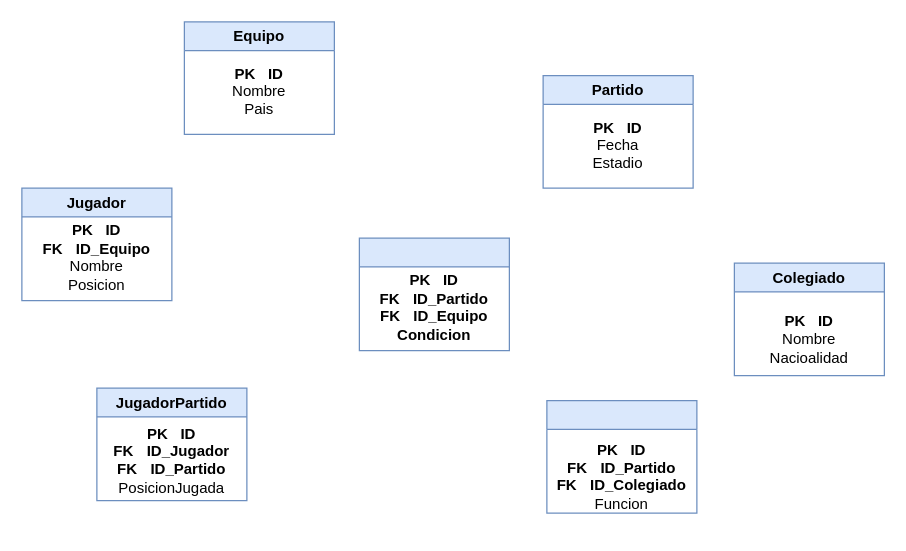
This 906x551 diagram has some shape labels left out. Here are the shapes that lost their labels. From the top down, the box of each, then its label:
(358, 237, 509, 351): PartidoEquipo
(546, 399, 697, 513): ColegiadoPartido
